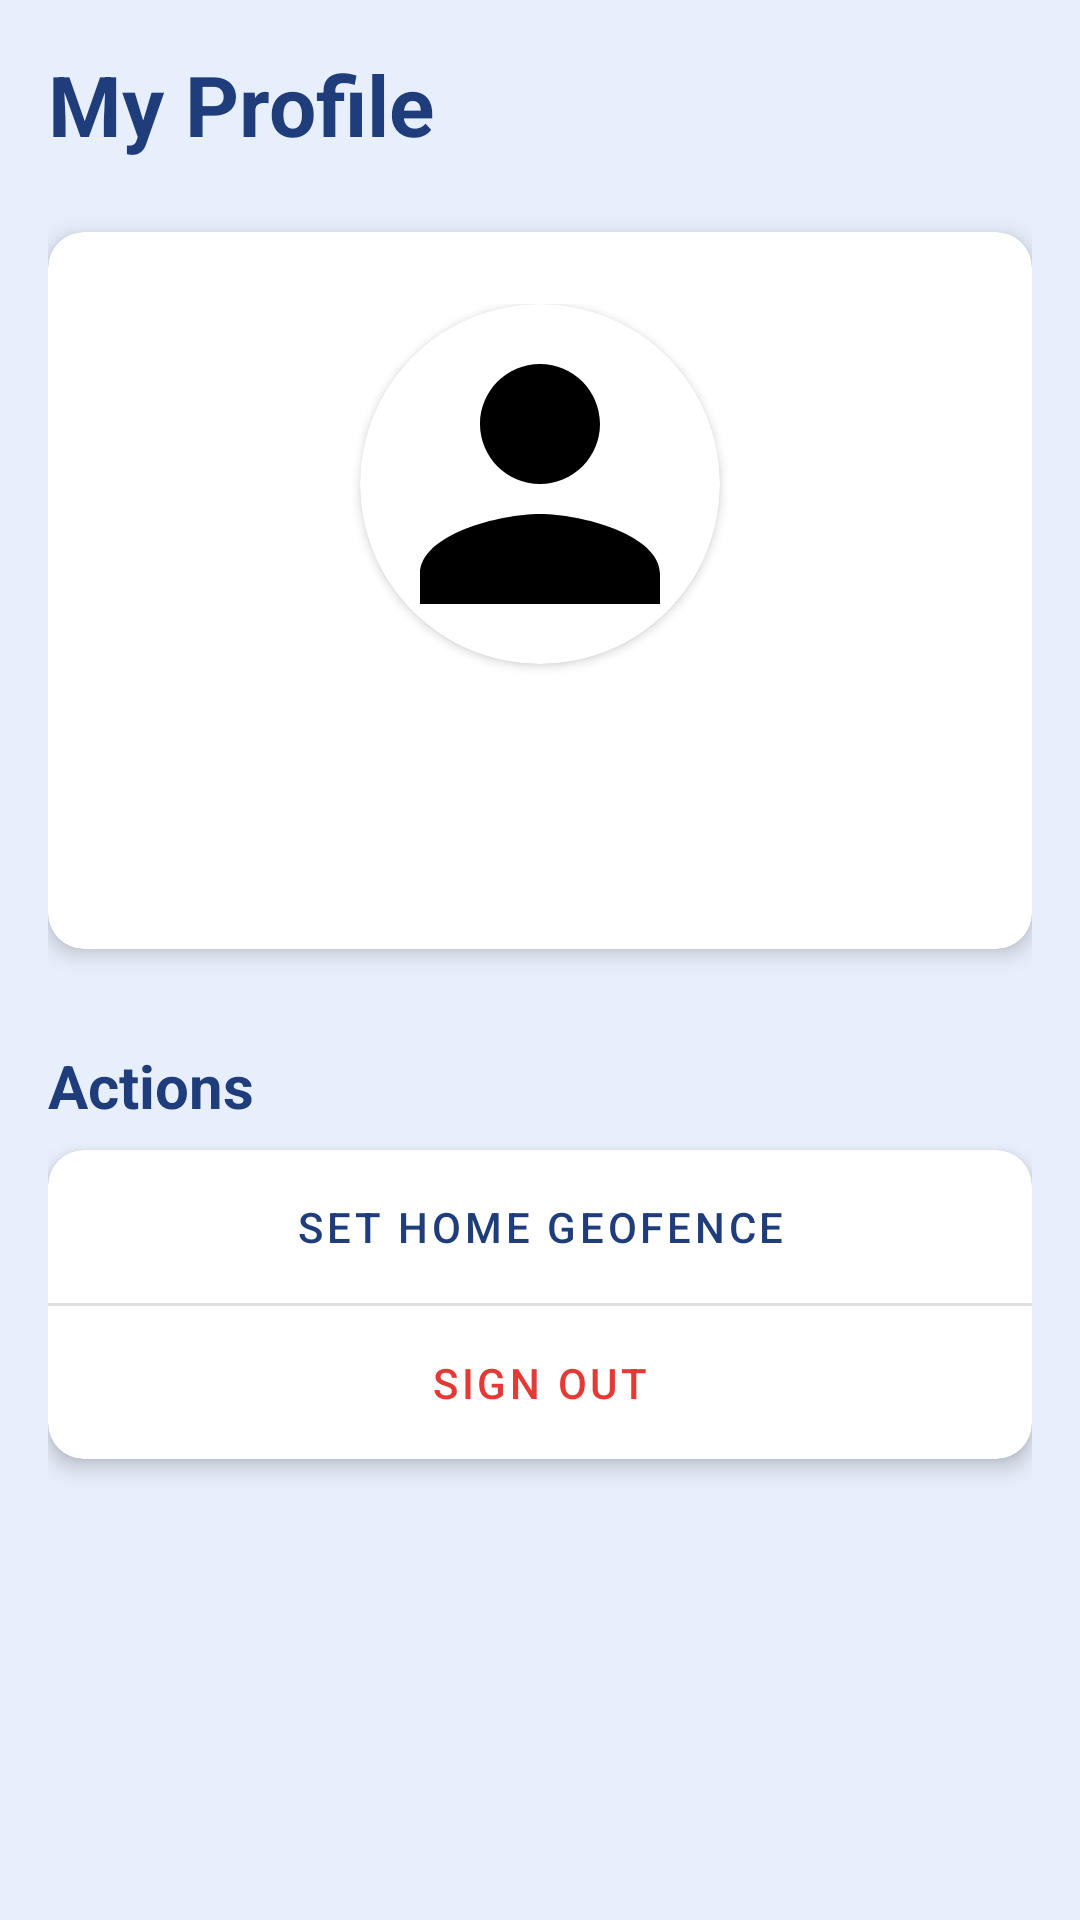

Icons on this 1080*1920 Android screen, each with its box as (x1, y1, x2, y2):
profile pic: (360, 364, 720, 664)
